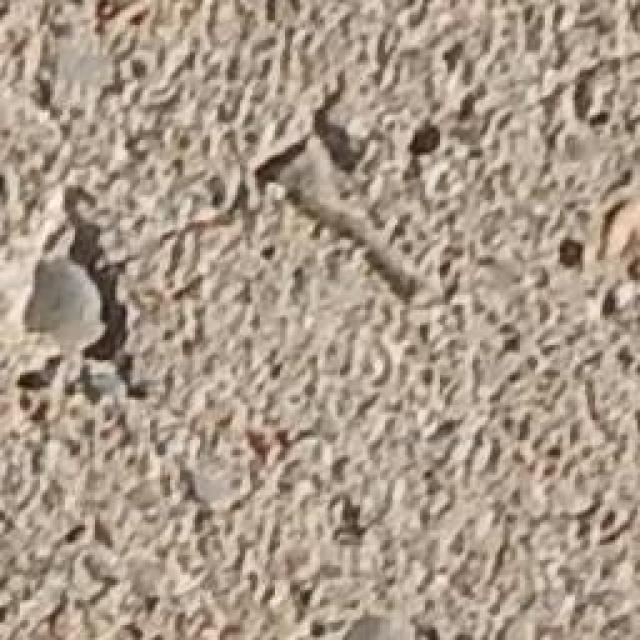concrete-crack: (0, 65, 441, 416)
